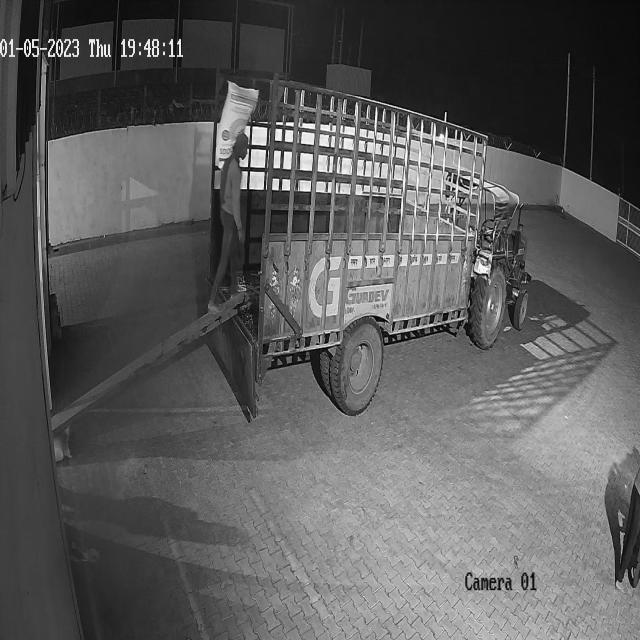sack: (216, 78, 259, 171)
